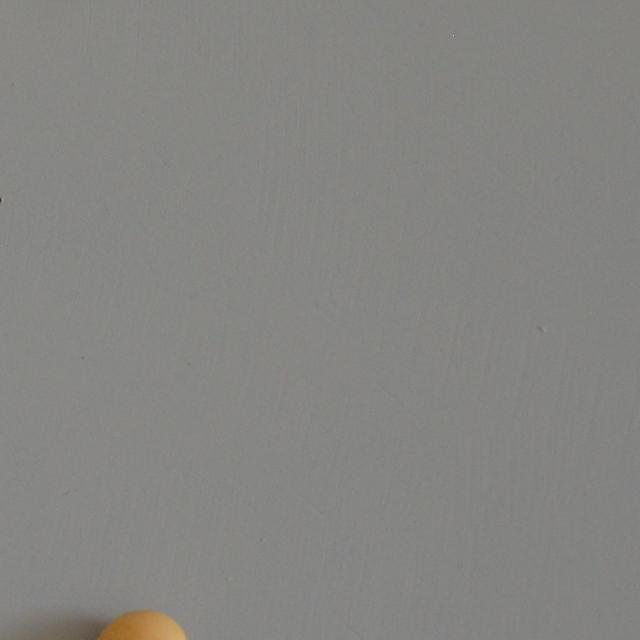cuerpos_extranos: (88, 602, 194, 640)
